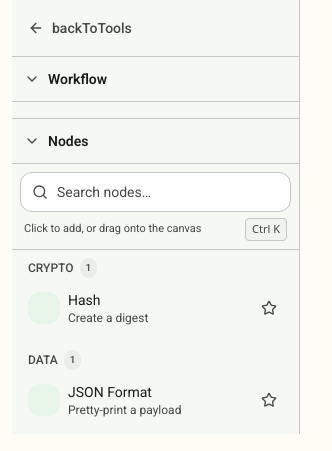
Test case: NodePalette › shows an empty result and lets the user clear the search
Step 1. Type "not-a-node" into the search field labelled "Search nodes…" → (156, 192), box [20,172,291,212]
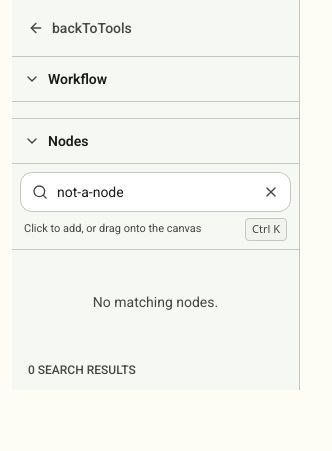
Check: the message reads "No matching nodes.", box [93,294,218,310]
Step 2. Click the button named "Clear node search" → (271, 192), box [255,176,287,208]
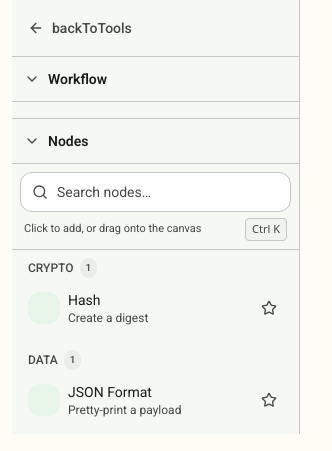
Check: the search field labelled "Search nodes…" is empty, box [20,172,291,212]
Check: the number of buttons named "Add node:" is 2, box [20,282,247,334]; [20,374,247,426]
